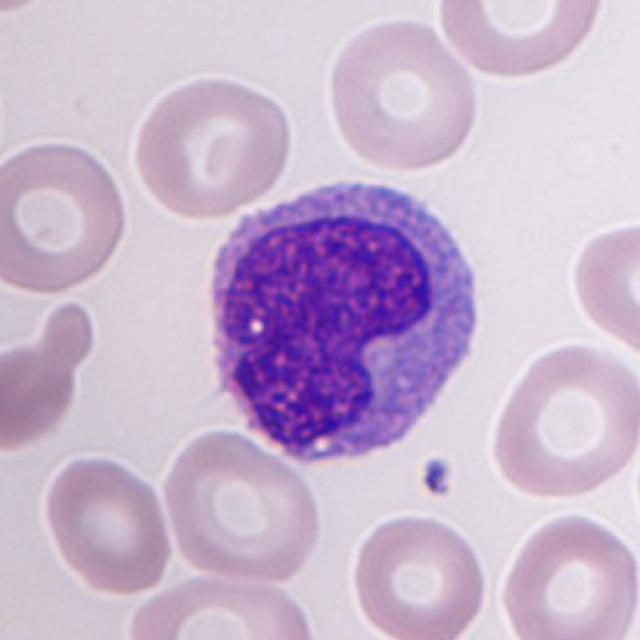Monocyte: (196, 167, 491, 475)
Platelets: (416, 452, 456, 500)
RBC: (156, 425, 327, 588), (322, 12, 484, 175), (484, 336, 638, 504), (127, 69, 296, 222), (0, 134, 133, 300), (38, 449, 176, 597), (346, 508, 493, 640), (496, 506, 640, 639), (431, 0, 610, 83), (119, 567, 316, 640), (567, 217, 638, 359), (0, 338, 82, 456)
